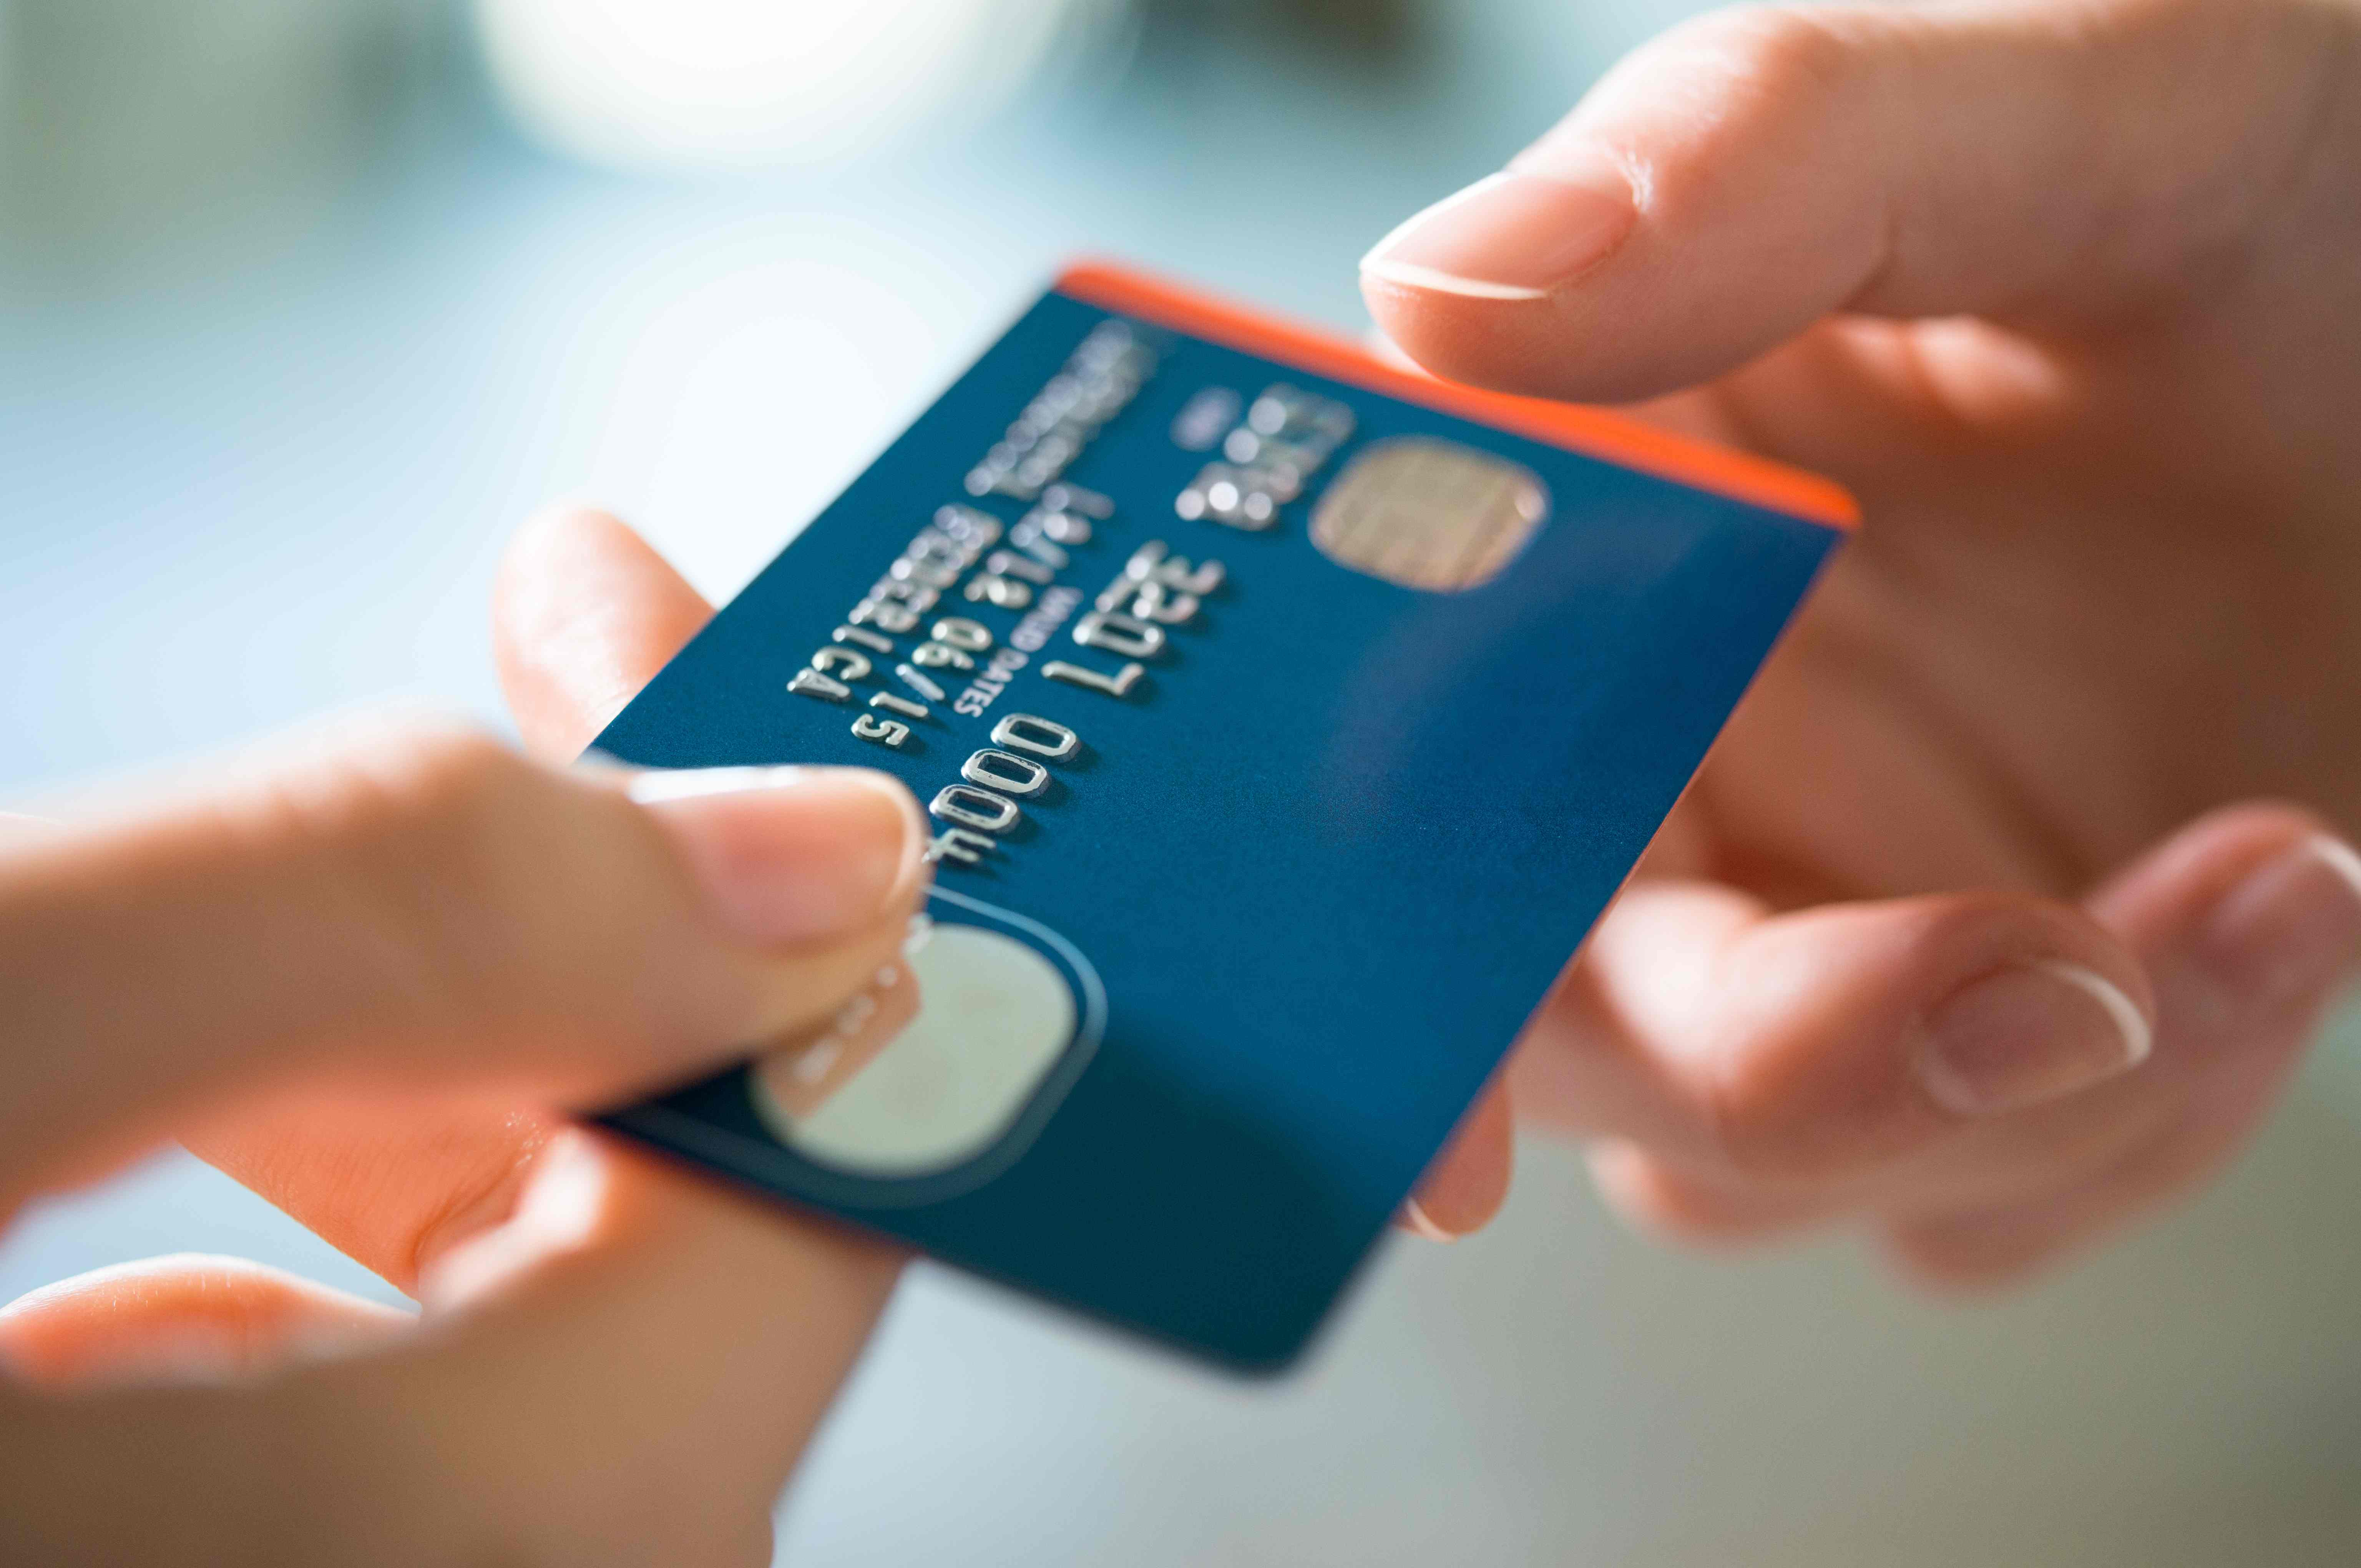card: (568, 259, 1859, 1381)
